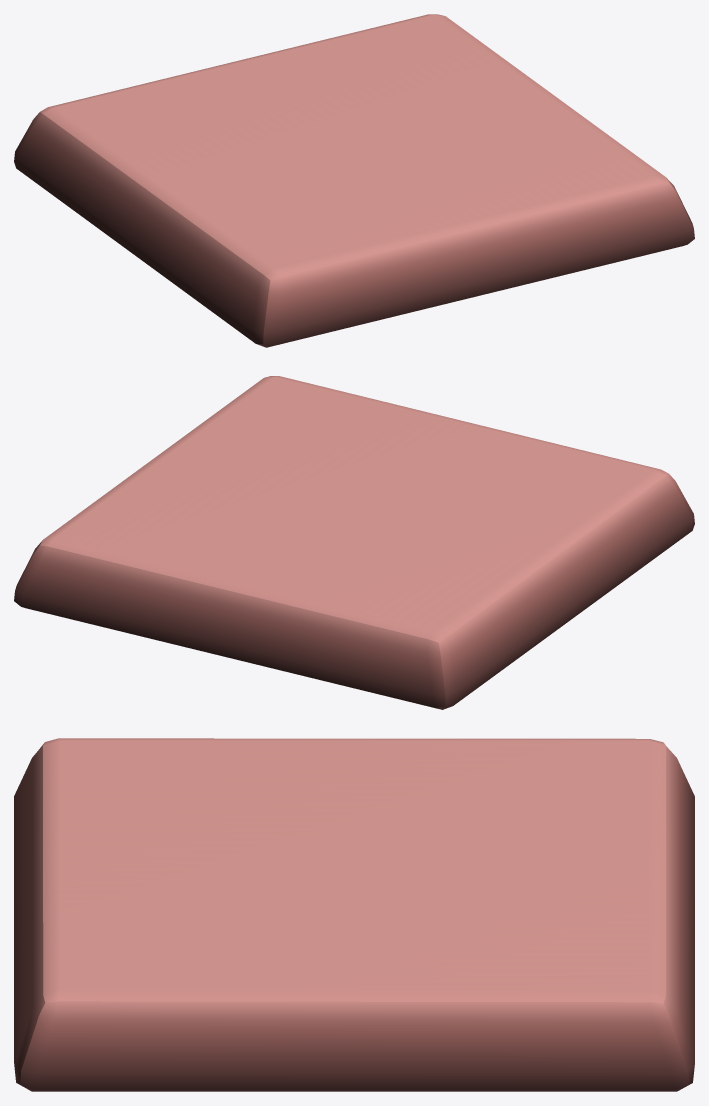
File: SM_Dalle_02.fbx
3 renders of one model, top to bottom at view 1: azimuth 30°, elevation 25°; view 2: azimuth 150°, elevation 25°; view 3: azimuth 270°, elevation 25°, orthographic. The views are drawn at different scales.
Parts seen in each view (by area): view 1: Dalle_02; view 2: Dalle_02; view 3: Dalle_02.
Part boxes in pixels (left/top/right/bottom): Dalle_02: left=14, top=14, right=694, bottom=347; Dalle_02: left=14, top=376, right=694, bottom=709; Dalle_02: left=14, top=738, right=694, bottom=1091.
Size of the model in its own units: 117 by 17.04 by 117.
